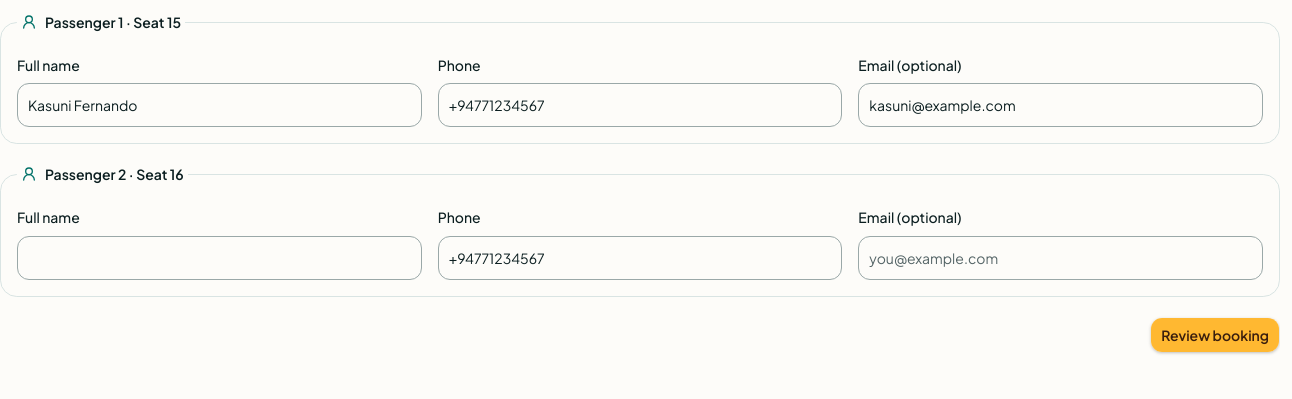
it: PassengerDetailsForm › suggests the booker's details and needs every passenger's name
Expected: the field labelled "Full name" below "15" holds "Kasuni Fernando", [17, 83, 422, 127]
Expected: the field labelled "Full name" below "16" is empty, [17, 236, 422, 280]
Click the button "Review booking": (1215, 334) [1150, 316, 1280, 352]
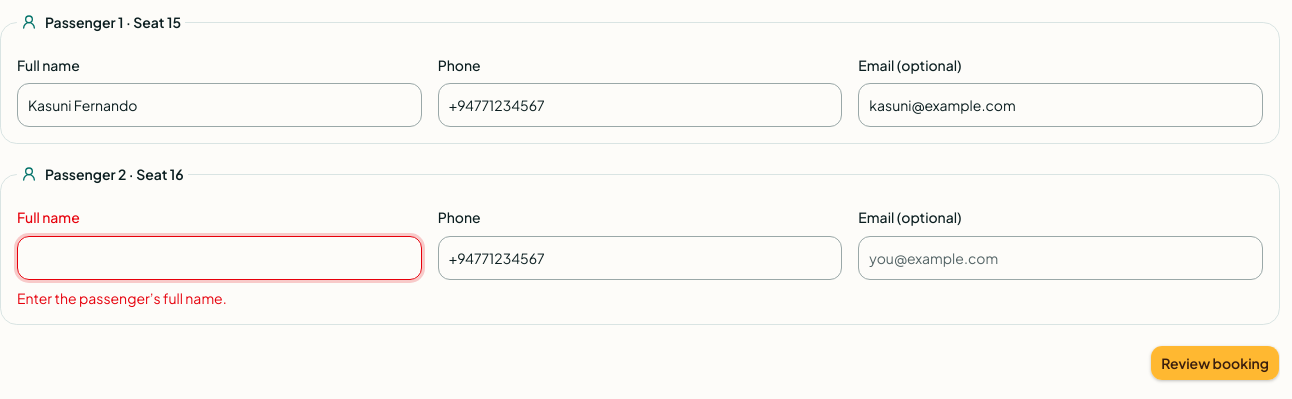
Expected: the text "Enter the passenger’s full name." is shown, [17, 288, 227, 306]
